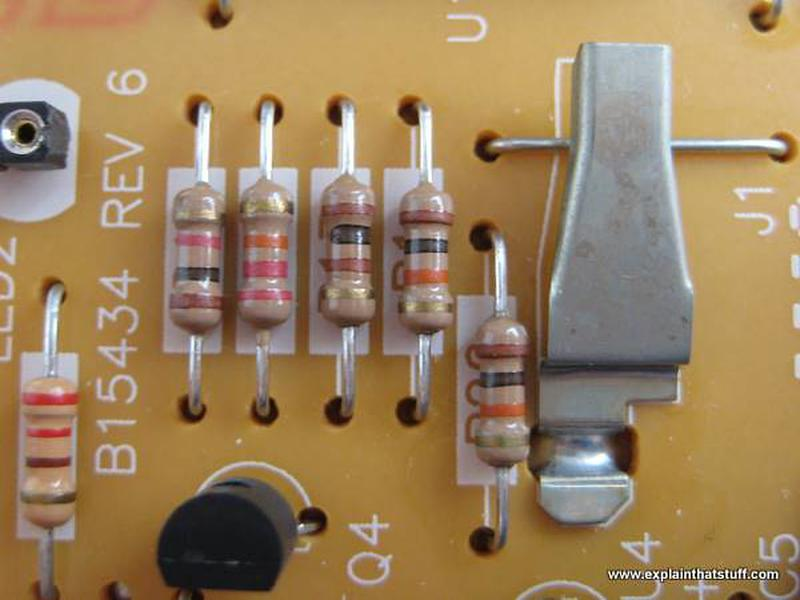resistor: (229, 153, 307, 373), (305, 155, 382, 363), (156, 159, 232, 366), (391, 155, 463, 371), (12, 346, 84, 553), (465, 302, 535, 479)
